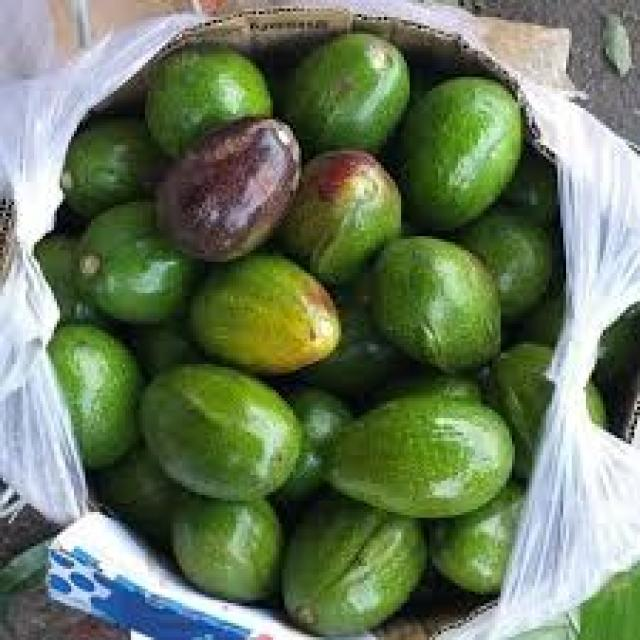Bo: (314, 386, 519, 534), (144, 100, 317, 275), (135, 347, 317, 508), (184, 246, 358, 379), (368, 222, 509, 386), (280, 502, 443, 637), (395, 70, 525, 225), (277, 18, 413, 159), (69, 196, 196, 344), (289, 139, 406, 290), (42, 320, 147, 482), (172, 502, 287, 609)
